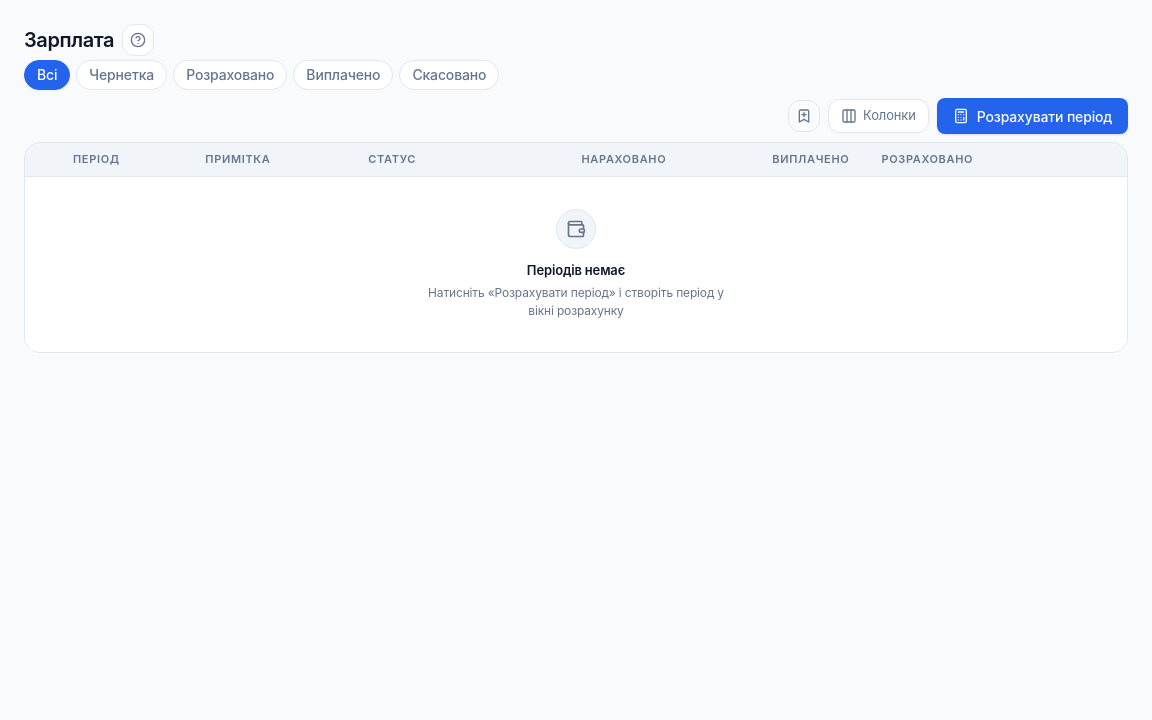
Test: Payroll — сторінка на весь екран: статуси над фільтрами, розрахунок у вікні › «Створити період» — лише коли є нарахування; створює період за датами вікна й закриває вікно
Click the button "Розрахувати період" at (1032, 116), box [937,98,1128,134]
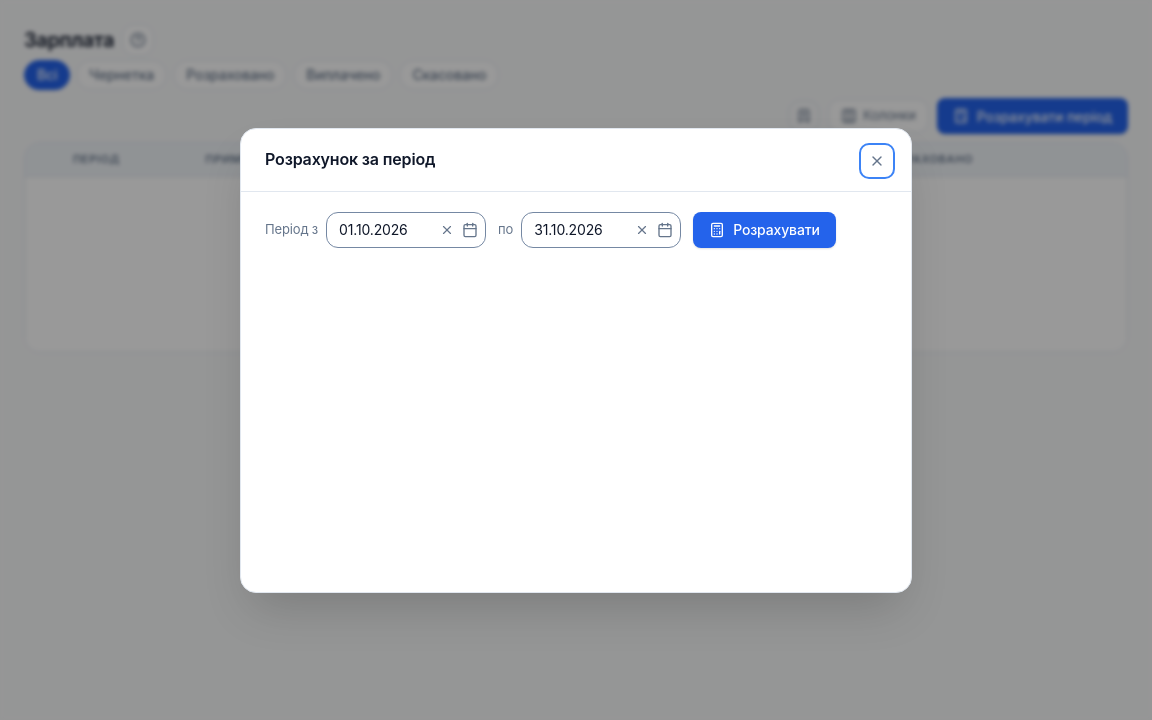
Expected: the button "Створити період" is not shown
Click the button "Розрахувати" at (764, 230), box [693,212,836,248]
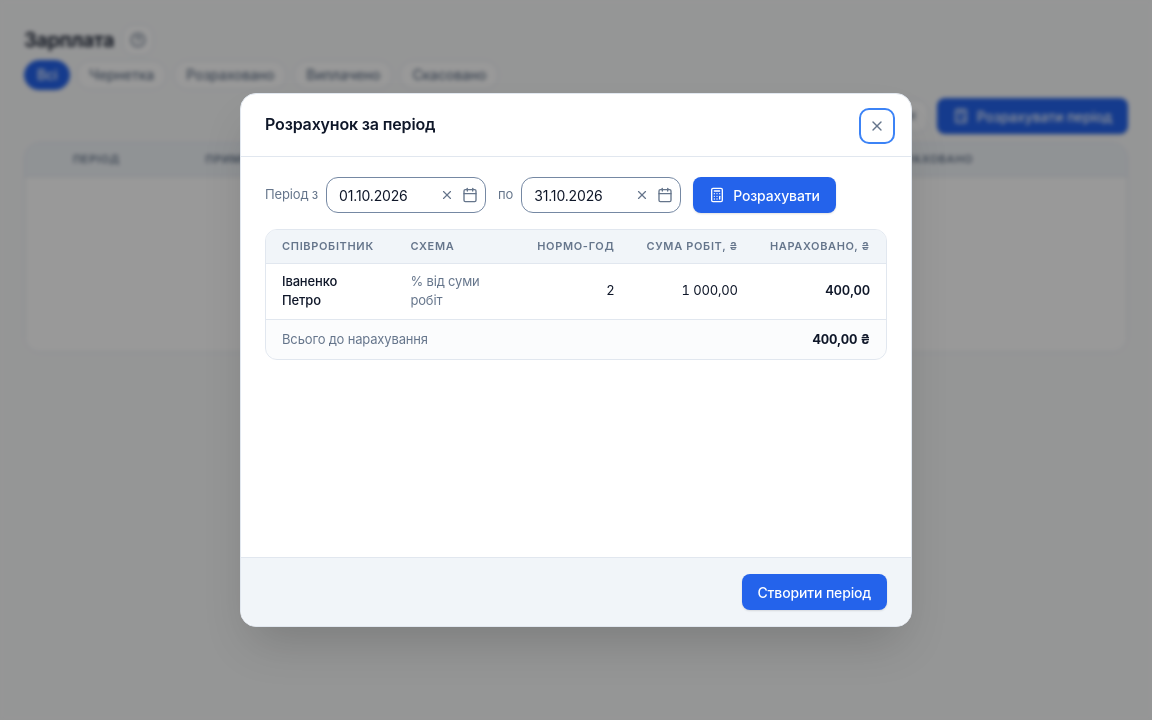
Expected: the text "Іваненко Петро" is shown, [266,263,394,318]
Click the button "Створити період" at (814, 592), box [742,574,887,610]
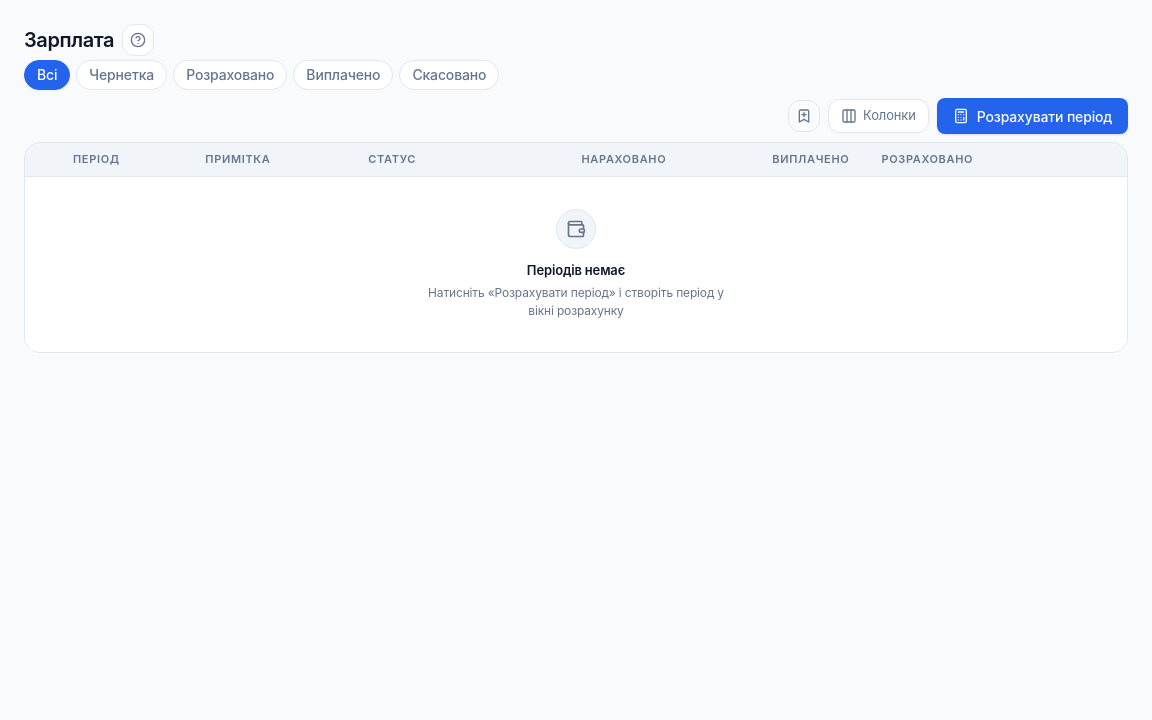
Expected: the heading "Розрахунок за період" is gone
